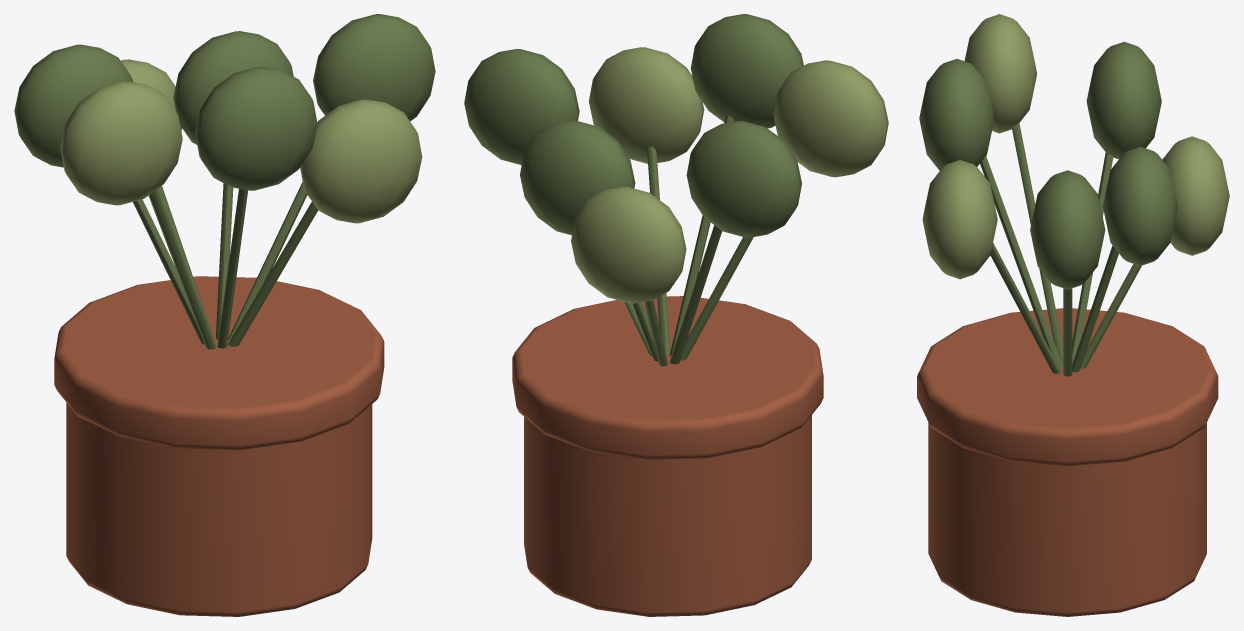
File: living-planter.glb
3 renders of one model, left to right at view 1: azimuth 30°, elevation 25°; view 2: azimuth 150°, elevation 25°; view 3: azimuth 270°, elevation 25°, orthographic. The views are drawn at different scales.
Visible parts, largest first — view 1: living_planter_pivot_Mesh; view 2: living_planter_pivot_Mesh; view 3: living_planter_pivot_Mesh.
Part boxes in pixels (x1,y1,x2,y2): living_planter_pivot_Mesh: (14,14,435,616); living_planter_pivot_Mesh: (464,14,888,616); living_planter_pivot_Mesh: (917,14,1229,616).
Bounding box in the file's own units: 0.8836 × 1.11 × 0.6504.
